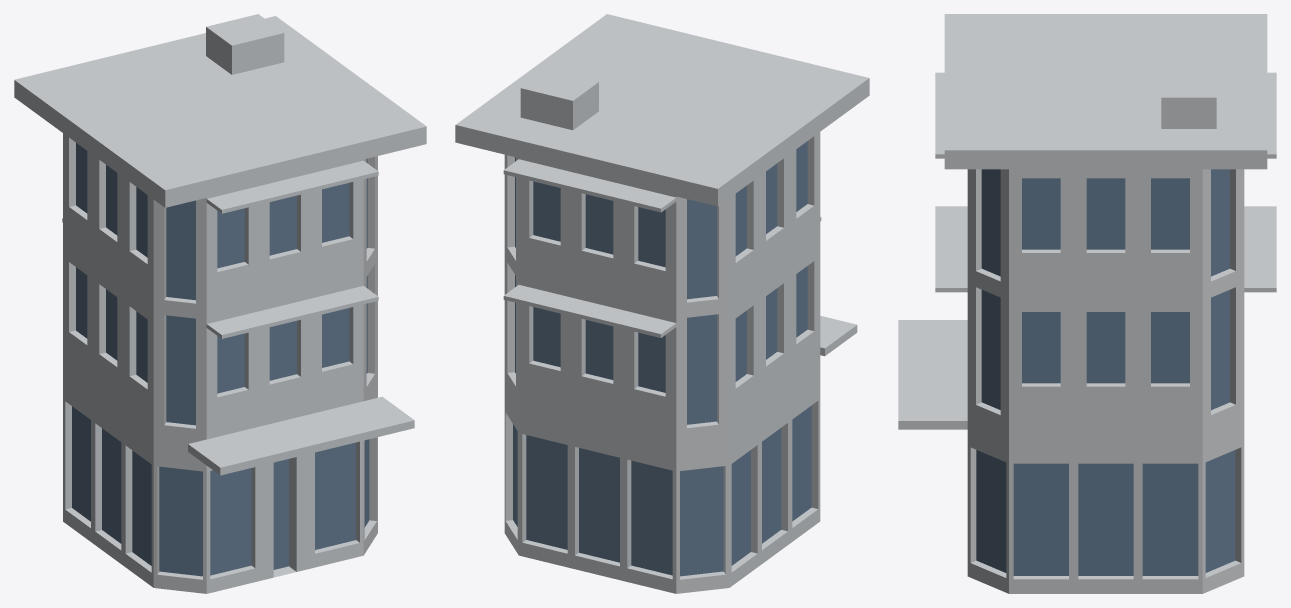
The model's file is building_a.glb.
3 renders of one model, left to right at view 1: azimuth 30°, elevation 25°; view 2: azimuth 150°, elevation 25°; view 3: azimuth 270°, elevation 25°, orthographic. The views are drawn at different scales.
Visible parts, largest first — view 1: building_a; view 2: building_a; view 3: building_a.
Boxes of the visible parts, x1,y1,x2,y2 form: building_a: [14, 14, 426, 593]; building_a: [455, 14, 869, 593]; building_a: [898, 14, 1276, 593].
Bounding box in the file's own units: 7 × 11.6 × 8.2.
